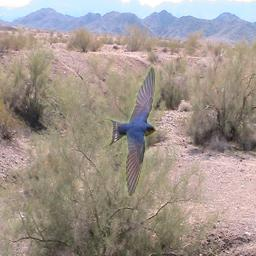Swallow: (103, 67, 157, 197)
